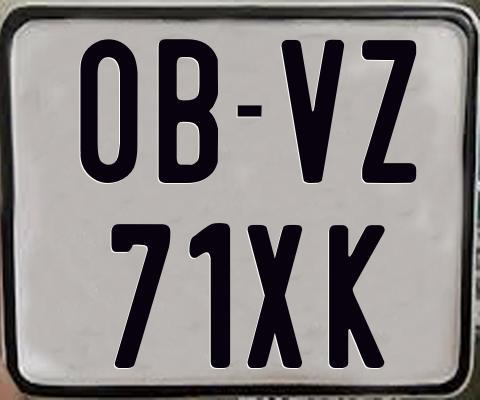0: (79, 36, 140, 185)
1: (189, 223, 234, 371)
7: (110, 223, 174, 371)
B: (156, 39, 218, 189)
K: (329, 223, 391, 367)
V: (280, 40, 348, 183)
X: (246, 225, 303, 373)
Z: (359, 39, 416, 184)
